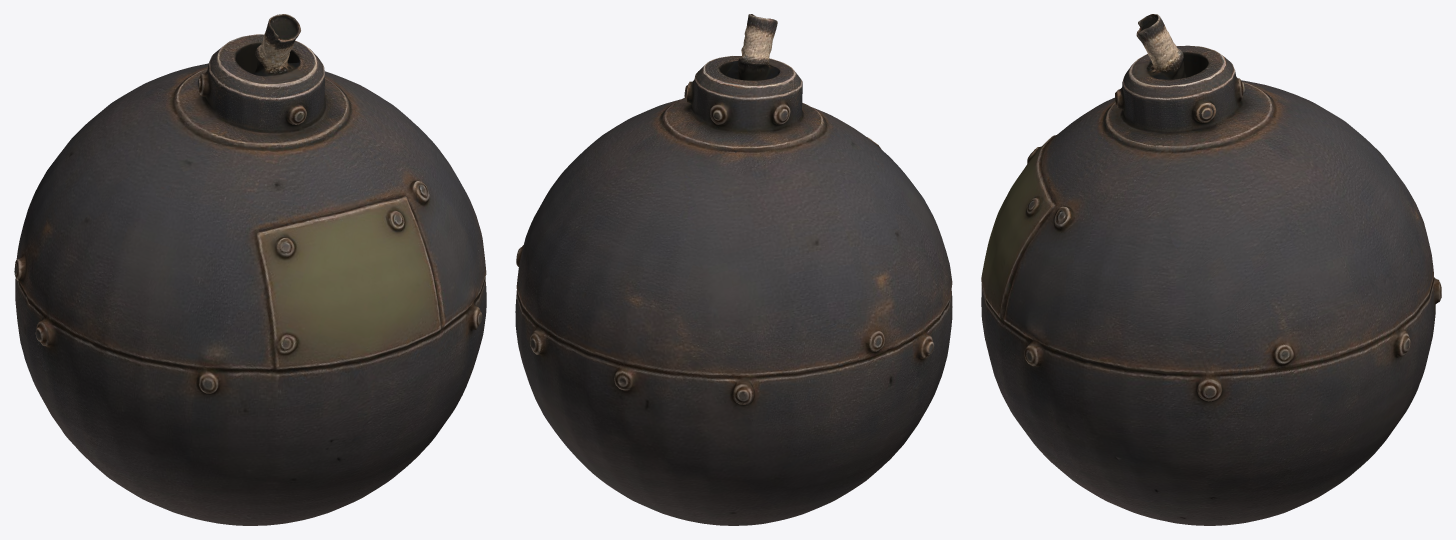
Rendered from catapulta_bomba.glb.
3 renders of one model, left to right at view 1: azimuth 30°, elevation 25°; view 2: azimuth 150°, elevation 25°; view 3: azimuth 270°, elevation 25°, orthographic. The views are drawn at different scales.
Parts seen in each view (by area): view 1: catapulta_bomba; view 2: catapulta_bomba; view 3: catapulta_bomba.
Part boxes in pixels (x1,y1,x2,y2): catapulta_bomba: (14,14,486,525); catapulta_bomba: (515,14,952,525); catapulta_bomba: (981,14,1441,525).
Bounding box in the file's own units: 0.1928 × 0.22 × 0.188.
1 material, 1 textured.
